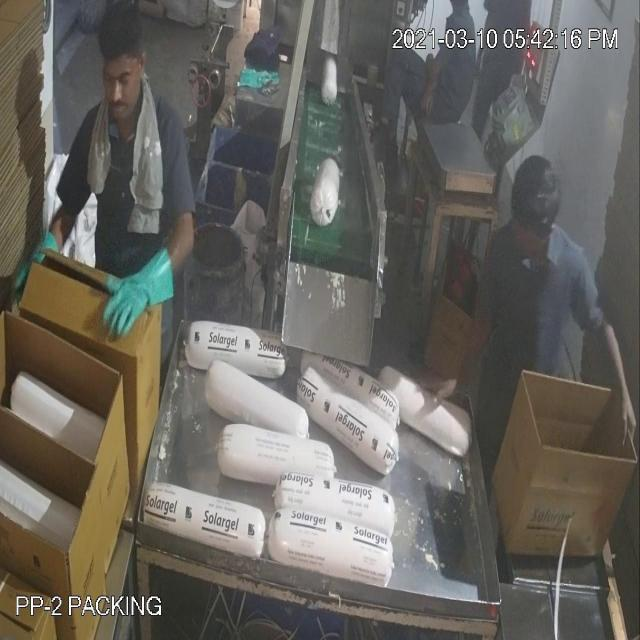No_Gloves: (44, 96, 618, 381)
